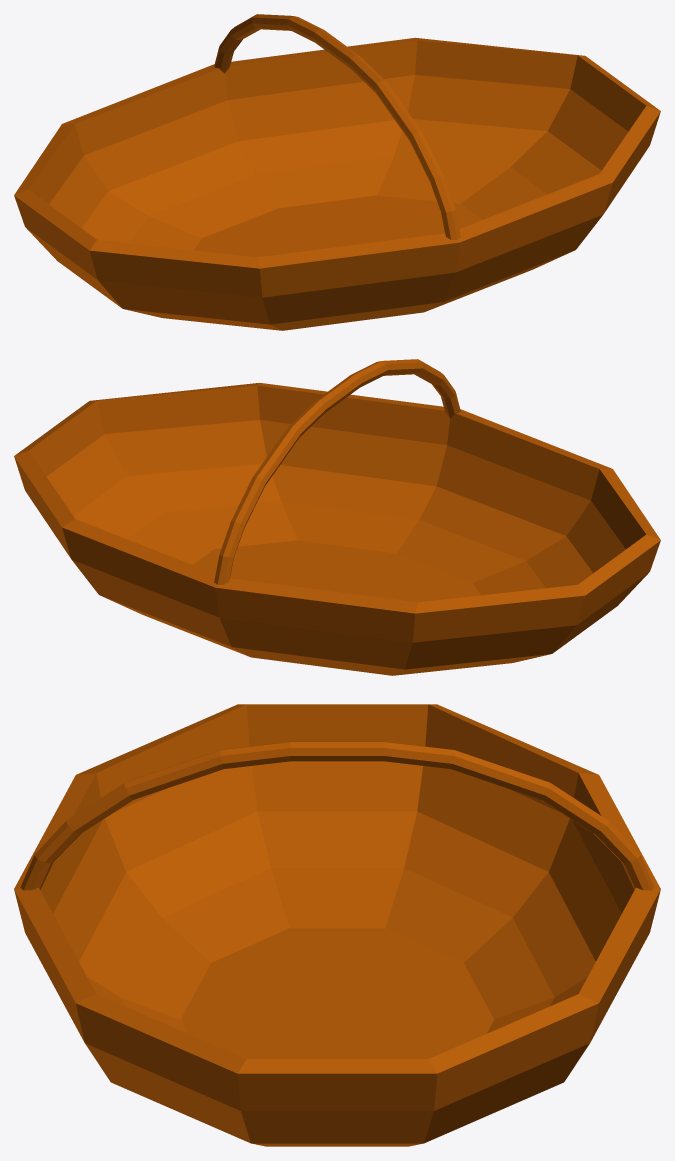
The model's file is Cesta.fbx.
3 views of the same model, one above another, from view 1: azimuth 30°, elevation 25°; view 2: azimuth 150°, elevation 25°; view 3: azimuth 270°, elevation 25° (orthographic). The views are drawn at different scales.
Visible parts, largest first — view 1: Cesta; view 2: Cesta; view 3: Cesta.
Part boxes in pixels (box(x1,y1,x2,y2)): Cesta: box(14, 14, 660, 330); Cesta: box(14, 359, 660, 675); Cesta: box(14, 704, 660, 1146).
Bounding box in the file's own units: 70.12 × 26.43 × 51.93.
